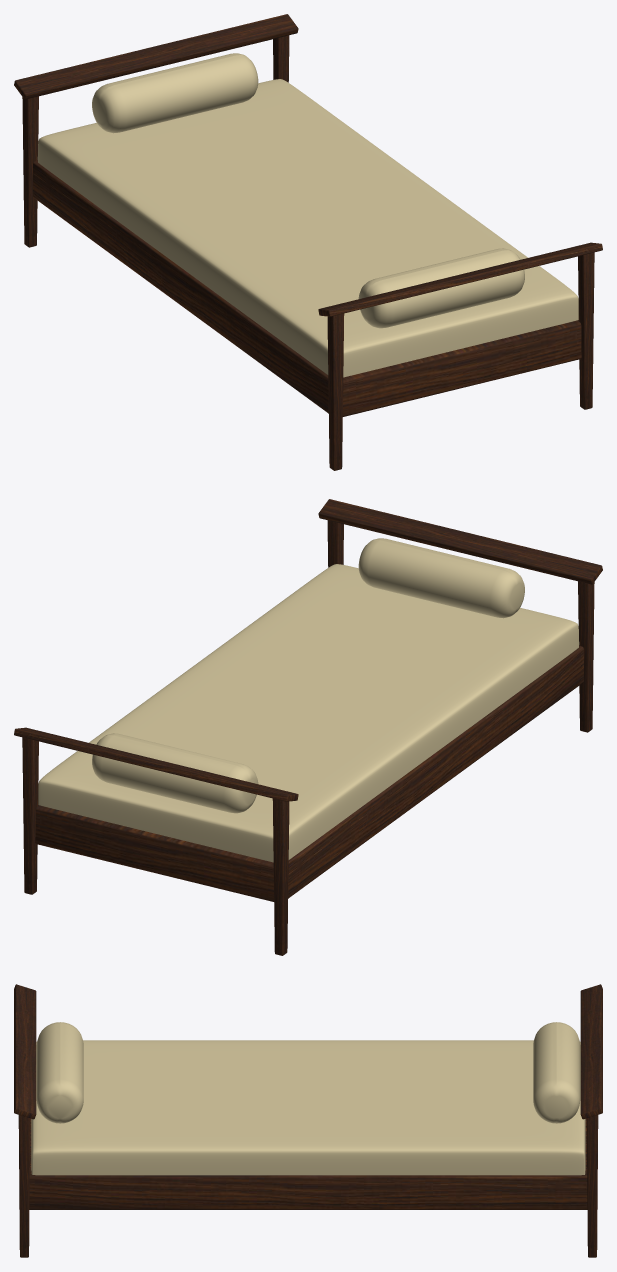
The model's file is premium-divan-sangwan-d5dbf262-172c-4834-b153-deb998cfa15b.glb.
3 views of the same model, one above another, from view 1: azimuth 30°, elevation 25°; view 2: azimuth 150°, elevation 25°; view 3: azimuth 270°, elevation 25° (orthographic). The views are drawn at different scales.
Parts seen in each view (by area): view 1: Cube.005; view 2: Cube.005; view 3: Cube.005.
Boxes of the visible parts, <box> form: Cube.005: <box>14,14,602,470</box>; Cube.005: <box>14,499,602,955</box>; Cube.005: <box>14,984,602,1257</box>.
Size of the model in its own units: 1.06 by 0.6114 by 2.13.
Materials: 2 (1 with a texture image).
